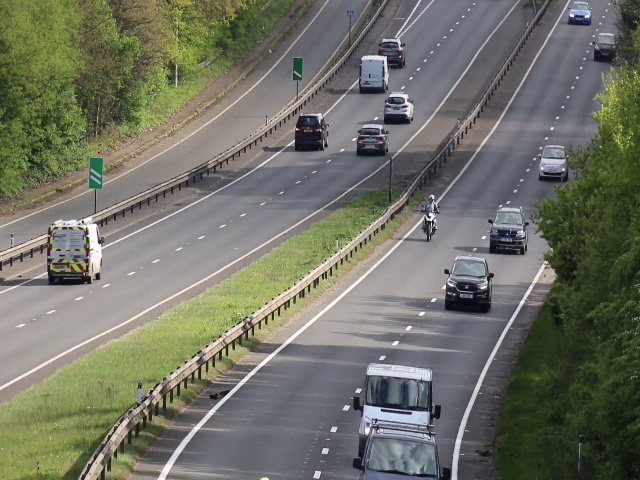car: (362, 362, 435, 435), (44, 219, 105, 286), (444, 254, 494, 309), (490, 208, 526, 251), (294, 113, 329, 148), (357, 54, 389, 92), (536, 143, 568, 180), (381, 89, 415, 123), (357, 123, 389, 157), (378, 35, 406, 68), (593, 30, 613, 58), (568, 6, 591, 26)
